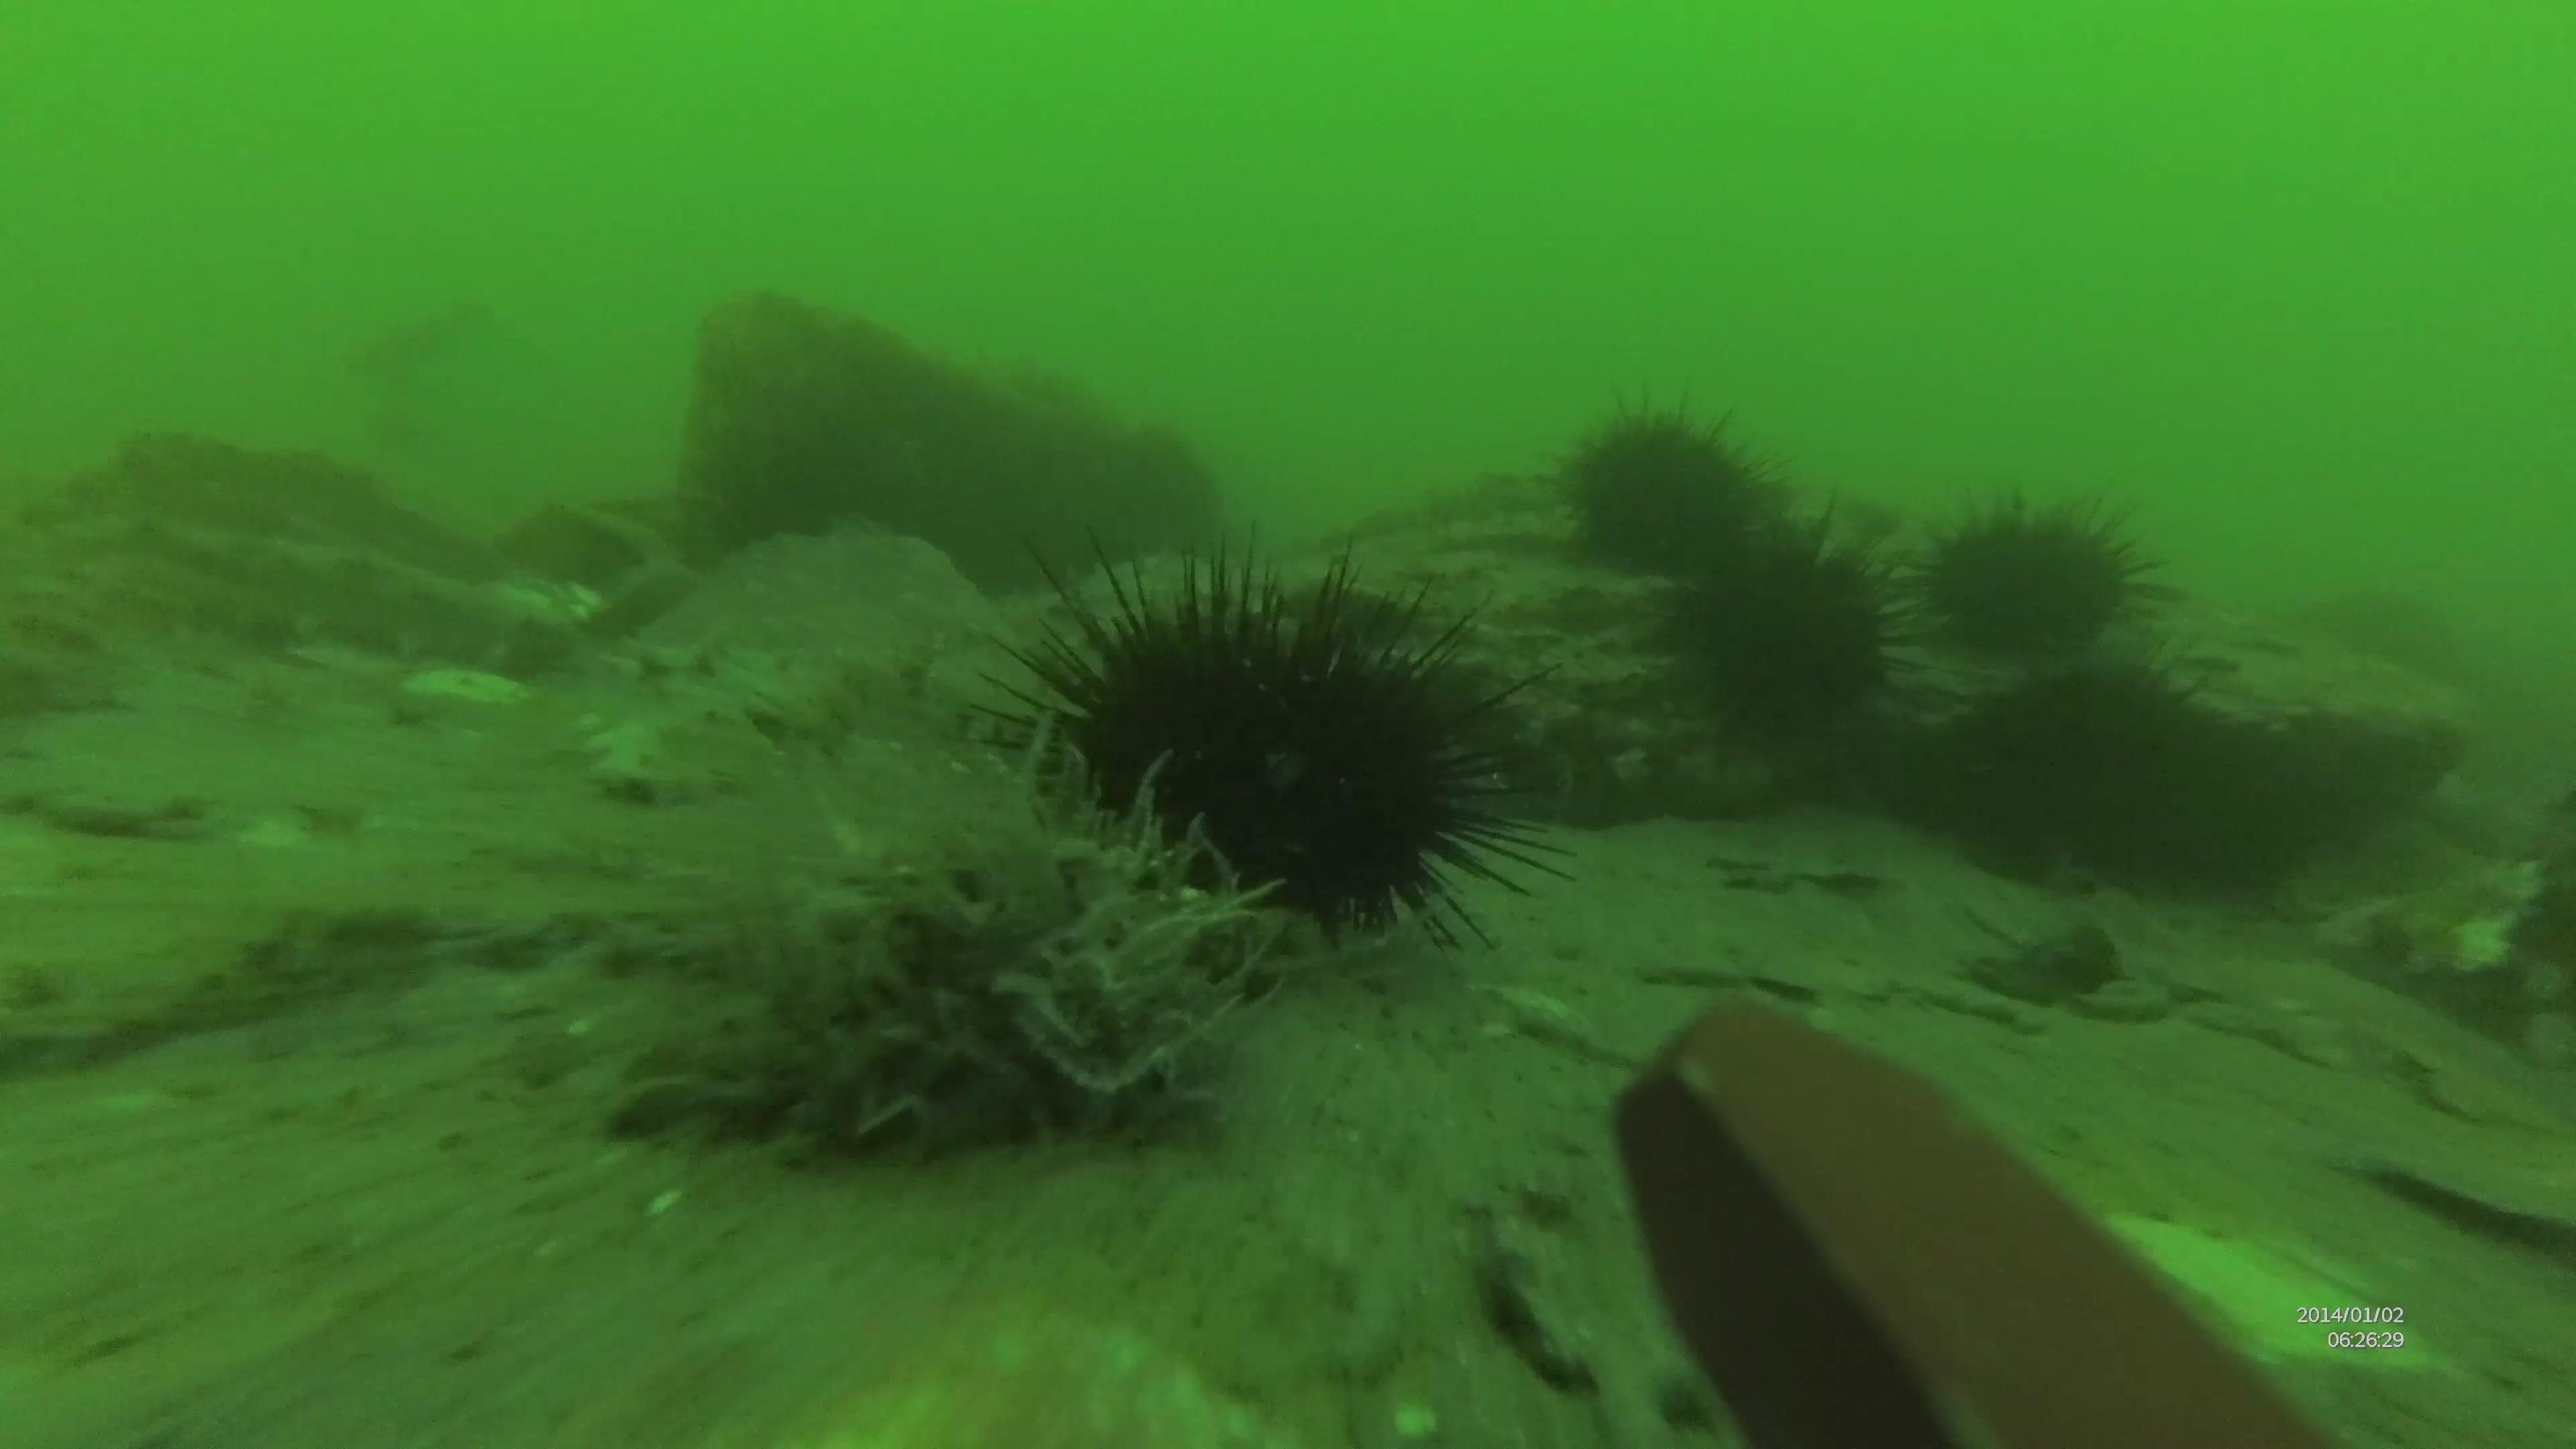echinus: (1003, 533, 1507, 971), (1656, 515, 1907, 755), (1890, 511, 2162, 674), (1560, 409, 1796, 571)
